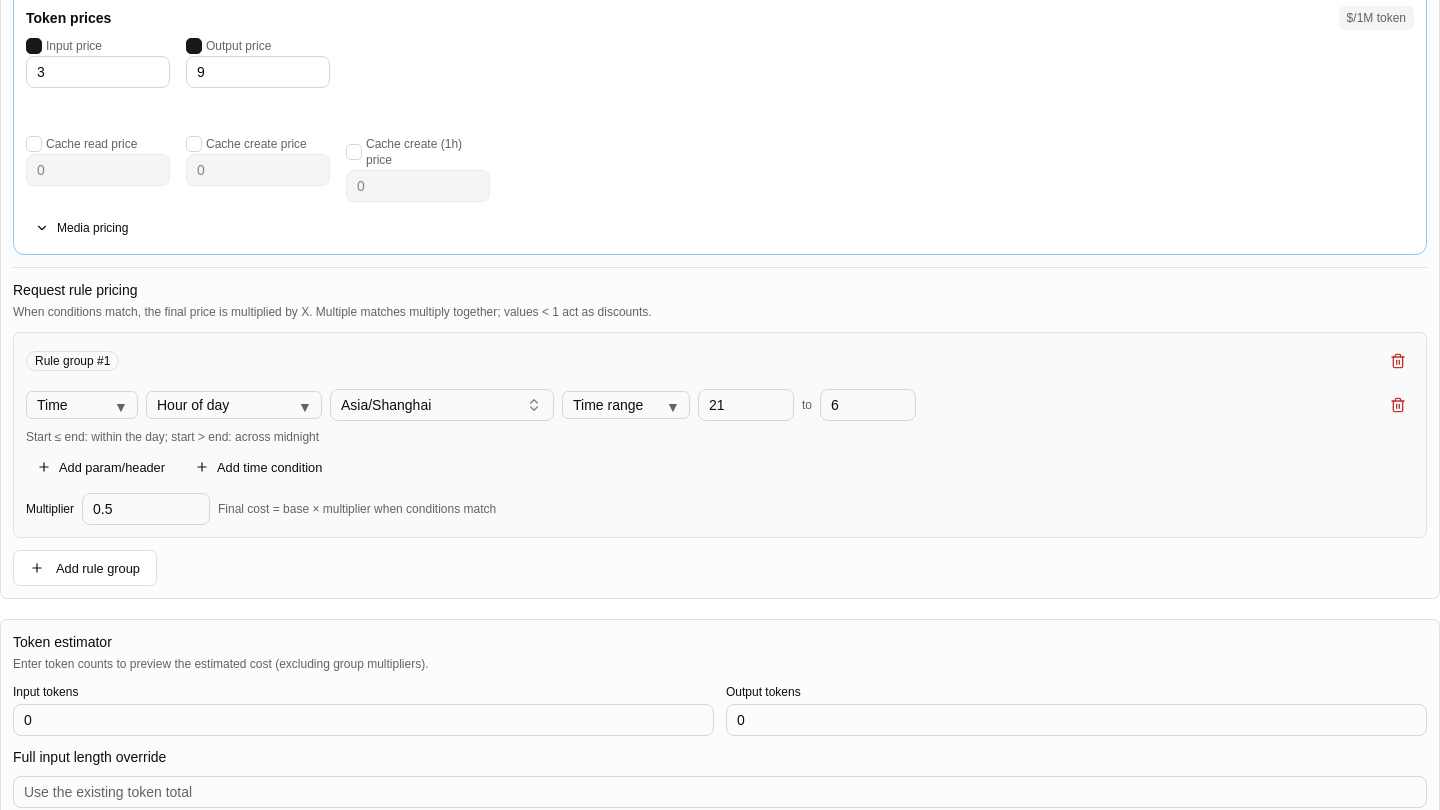
Test: preserves legacy numeric drafts when editing an independent time multiplier range
(page scrolled)
Step 1. Clear the number field named "Start" → point(746, 405), box [698, 389, 794, 421]
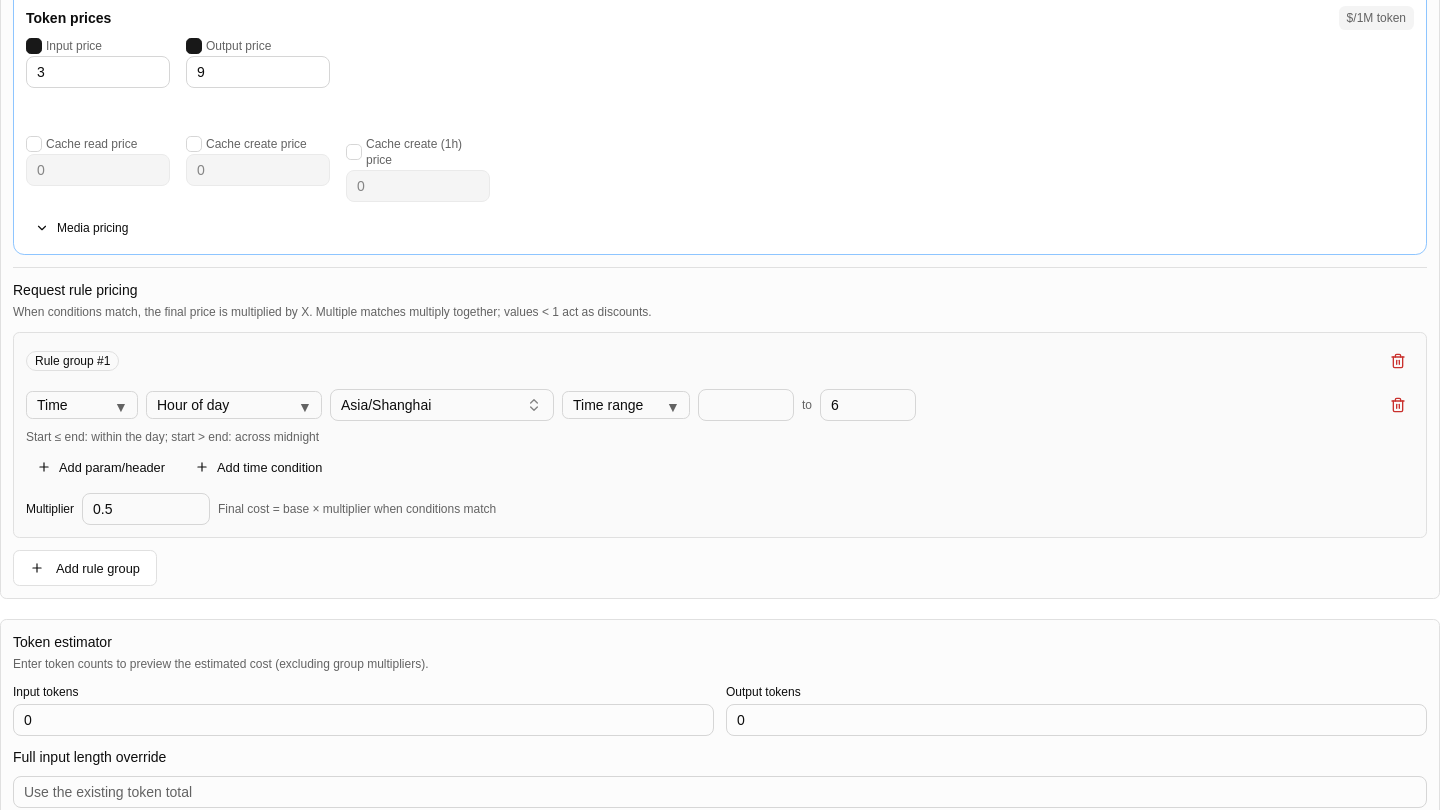
Step 2. Leave the number field named "Start", box [698, 389, 794, 421]
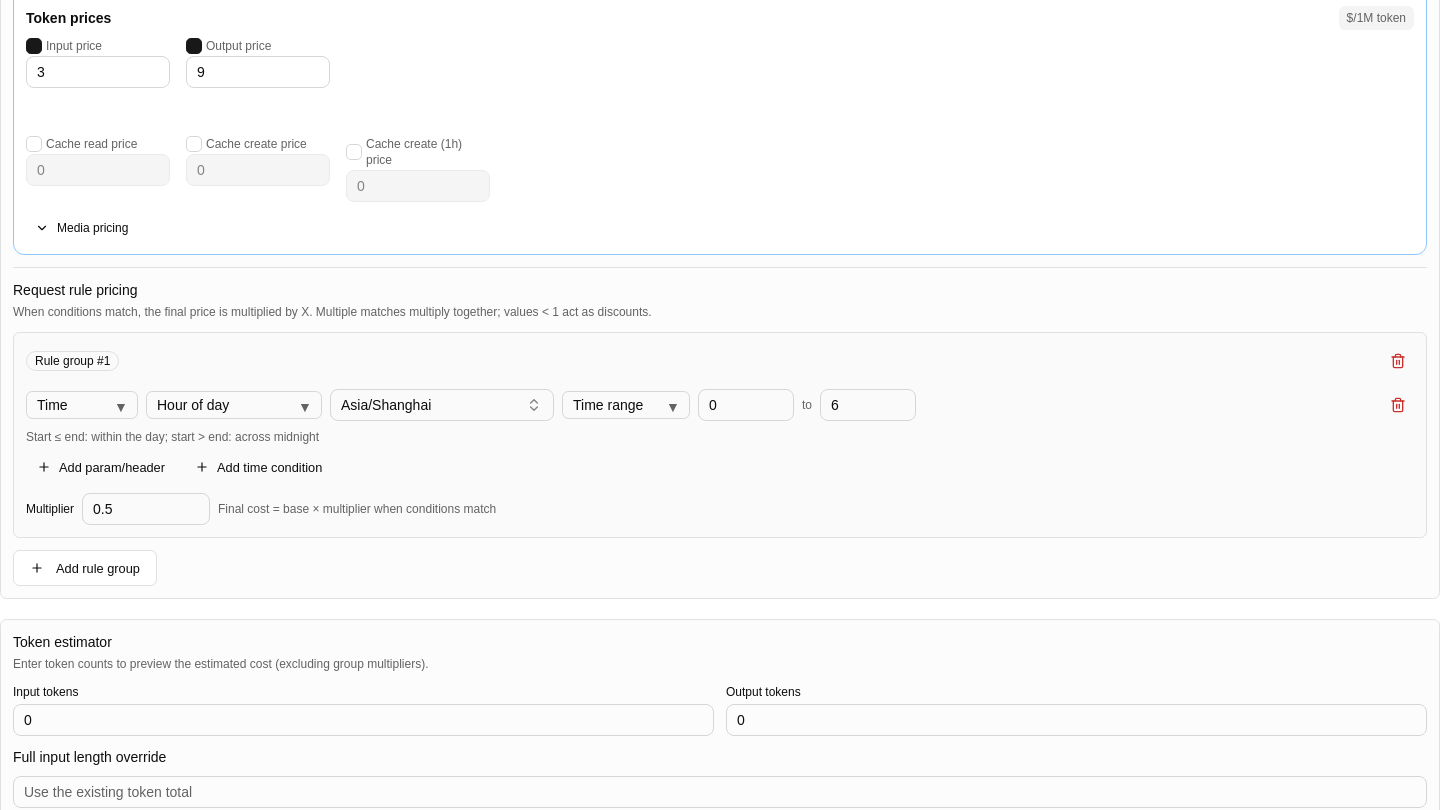
expect the number field named "Start" holds "0": met, box [698, 389, 794, 421]
